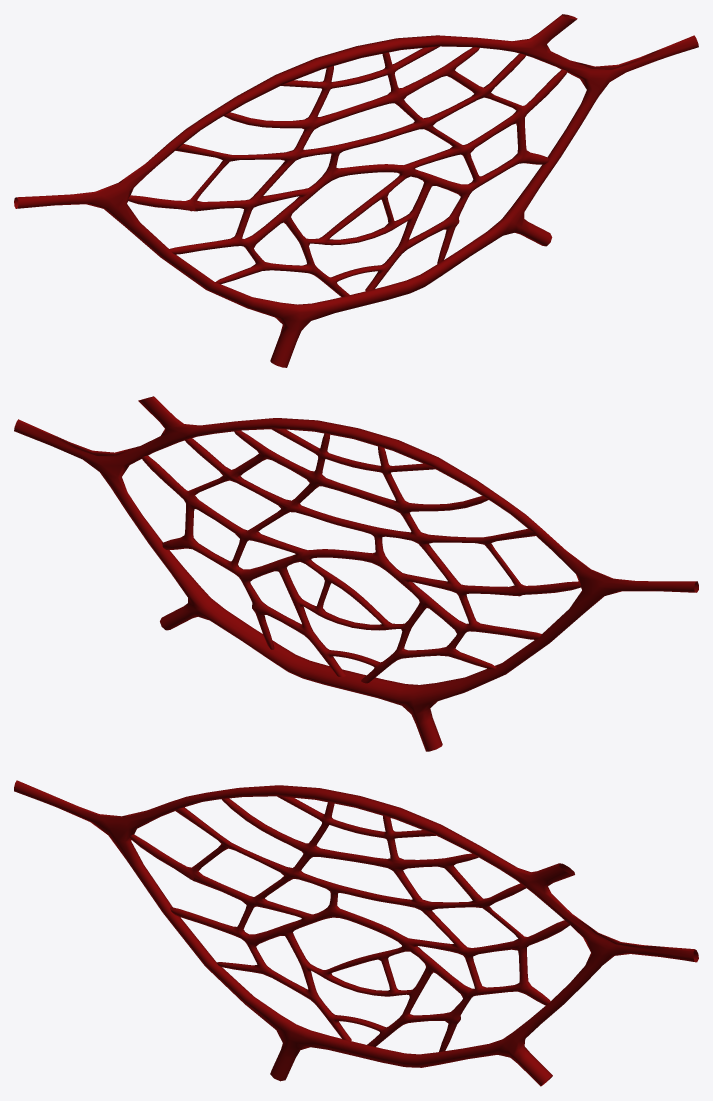
Rendered from Blood Vessels.fbx.
The picture shows the model from 3 angles, top to bottom: view 1: azimuth 30°, elevation 25°; view 2: azimuth 150°, elevation 25°; view 3: azimuth 330°, elevation 25°; orthographic projection.
Parts seen in each view (by area): view 1: blood vessels; view 2: blood vessels; view 3: blood vessels.
Boxes of the visible parts, <box> form: blood vessels: <box>14,14,698,367</box>; blood vessels: <box>14,396,698,751</box>; blood vessels: <box>14,780,698,1086</box>.
Size of the model in its own units: 226 by 95.94 by 5.41.
1 material, 1 textured.
